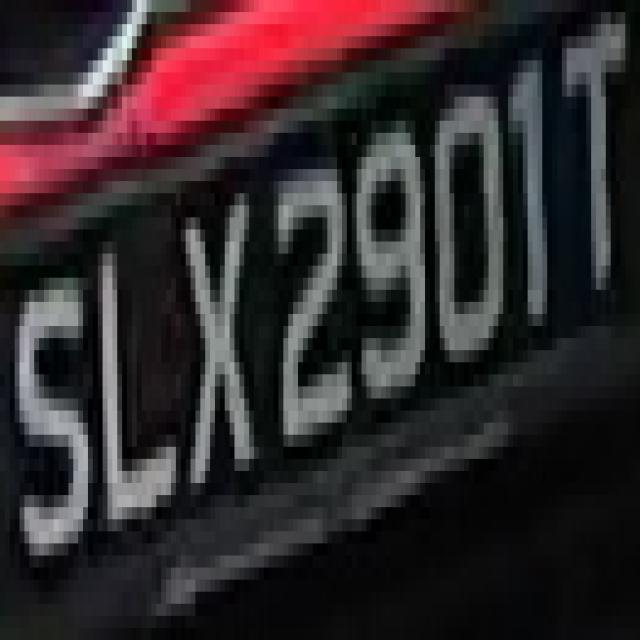0: (415, 96, 503, 398)
1: (503, 61, 557, 398)
2: (264, 157, 361, 483)
9: (327, 109, 440, 446)
L: (98, 194, 180, 544)
S: (5, 254, 93, 556)
T: (4, 0, 5, 6)
X: (166, 193, 259, 495)
